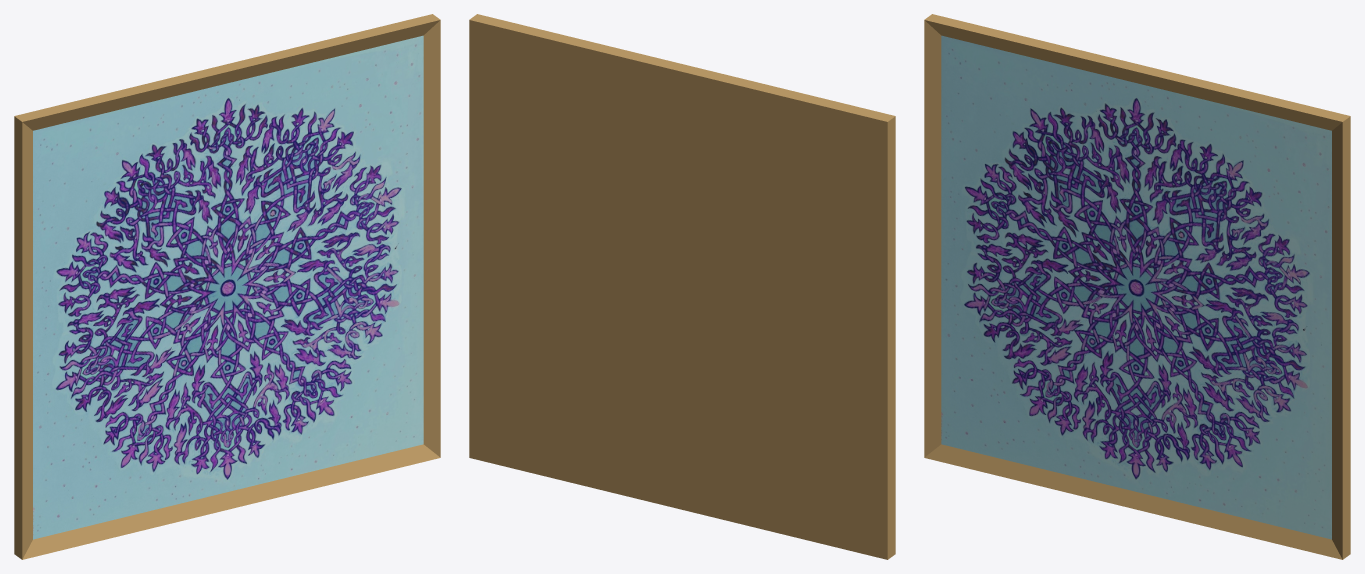
Rendered from slipper-orchids-orchids30-lightning-blue-a0-natural-oak-v2.glb.
3 renders of one model, left to right at view 1: azimuth 30°, elevation 25°; view 2: azimuth 150°, elevation 25°; view 3: azimuth 330°, elevation 25°, orthographic.
Parts seen in each view (by area): view 1: FramedPrint; view 2: FramedPrint; view 3: FramedPrint.
Boxes of the visible parts, <box> form: FramedPrint: <box>14,14,440,559</box>; FramedPrint: <box>469,14,895,559</box>; FramedPrint: <box>924,14,1350,559</box>.
Size of the model in its own units: 0.9 by 0.9 by 0.03.
Materials: 2 (1 with a texture image).
